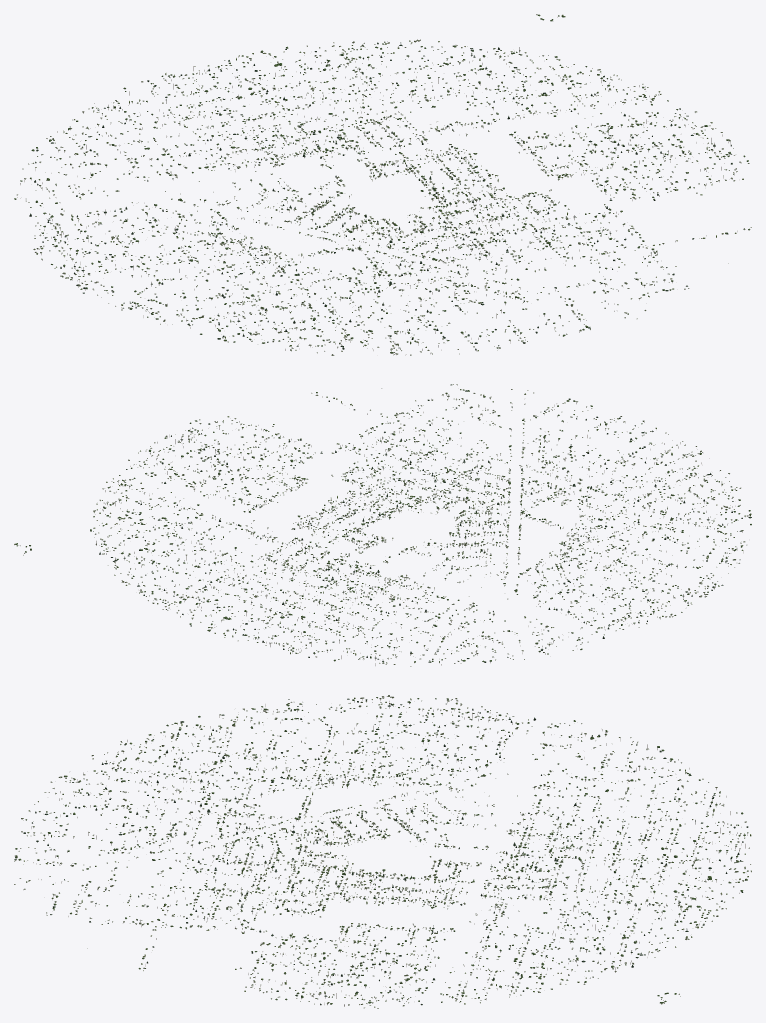
File: moorabbin_backdrop_part2.glb
3 views of the same model, one above another, from view 1: azimuth 30°, elevation 25°; view 2: azimuth 150°, elevation 25°; view 3: azimuth 270°, elevation 25° (orthographic). The views are drawn at different scales.
Parts seen in each view (by area): view 1: bg_trees_joined_s08, bg_trees_joined_s13, bg_trees_joined_s14, bg_trees_joined_s12, bg_trees_joined_s09, bg_trees_joined_s15, bg_trees_joined_s11, bg_trees_joined_s10, bg_trees_joined_s02, bg_trees_joined_s01, bg_trees_joined_s03, bg_trees_joined_s05 (+3 smaller); view 2: bg_trees_joined_s13, bg_trees_joined_s08, bg_trees_joined_s14, bg_trees_joined_s12, bg_trees_joined_s09, bg_trees_joined_s15, bg_trees_joined_s11, bg_trees_joined_s10, bg_trees_joined_s02, bg_trees_joined_s01, bg_trees_joined_s05, bg_trees_joined_s03 (+2 smaller); view 3: bg_trees_joined_s13, bg_trees_joined_s08, bg_trees_joined_s14, bg_trees_joined_s12, bg_trees_joined_s09, bg_trees_joined_s15, bg_trees_joined_s11, bg_trees_joined_s10, bg_trees_joined_s02, bg_trees_joined_s01, bg_trees_joined_s03, bg_trees_joined_s05 (+3 smaller).
Boxes of the visible parts, bbox=[...] form: bg_trees_joined_s08: bbox=[65, 238, 336, 350]; bg_trees_joined_s13: bbox=[208, 39, 480, 135]; bg_trees_joined_s14: bbox=[31, 66, 292, 175]; bg_trees_joined_s12: bbox=[436, 14, 696, 161]; bg_trees_joined_s09: bbox=[290, 266, 567, 355]; bg_trees_joined_s15: bbox=[14, 161, 230, 277]; bg_trees_joined_s11: bbox=[540, 122, 751, 237]; bg_trees_joined_s10: bbox=[483, 218, 728, 332]; bg_trees_joined_s02: bbox=[409, 205, 550, 260]; bg_trees_joined_s01: bbox=[352, 218, 465, 273]; bg_trees_joined_s03: bbox=[421, 164, 559, 219]; bg_trees_joined_s05: bbox=[304, 125, 431, 181]; bg_trees_joined_s13: bbox=[108, 541, 338, 642]; bg_trees_joined_s08: bbox=[560, 488, 751, 594]; bg_trees_joined_s14: bbox=[263, 584, 496, 666]; bg_trees_joined_s12: bbox=[14, 458, 283, 557]; bg_trees_joined_s09: bbox=[507, 405, 740, 506]; bg_trees_joined_s15: bbox=[469, 559, 707, 659]; bg_trees_joined_s11: bbox=[138, 392, 381, 491]; bg_trees_joined_s10: bbox=[350, 384, 577, 464]; bg_trees_joined_s02: bbox=[385, 458, 491, 513]; bg_trees_joined_s01: bbox=[445, 470, 565, 521]; bg_trees_joined_s05: bbox=[273, 531, 393, 582]; bg_trees_joined_s03: bbox=[290, 464, 409, 517]; bg_trees_joined_s13: bbox=[506, 852, 751, 957]; bg_trees_joined_s08: bbox=[121, 696, 383, 797]; bg_trees_joined_s14: bbox=[528, 744, 751, 854]; bg_trees_joined_s12: bbox=[383, 904, 680, 1006]; bg_trees_joined_s09: bbox=[15, 741, 254, 853]; bg_trees_joined_s15: bbox=[383, 695, 637, 796]; bg_trees_joined_s11: bbox=[138, 904, 383, 1008]; bg_trees_joined_s10: bbox=[14, 850, 259, 950]; bg_trees_joined_s02: bbox=[212, 851, 353, 904]; bg_trees_joined_s01: bbox=[211, 804, 351, 854]; bg_trees_joined_s03: bbox=[266, 869, 383, 926]; bg_trees_joined_s05: bbox=[429, 852, 555, 902].
Size of the model in its own units: 3007 by 49.05 by 2985.
Materials: 1 (1 with a texture image).
